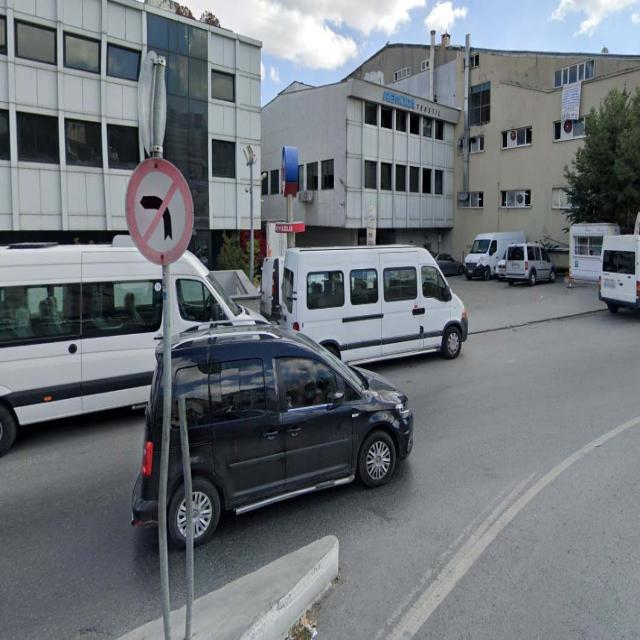soladonulmez: (126, 158, 194, 264)
